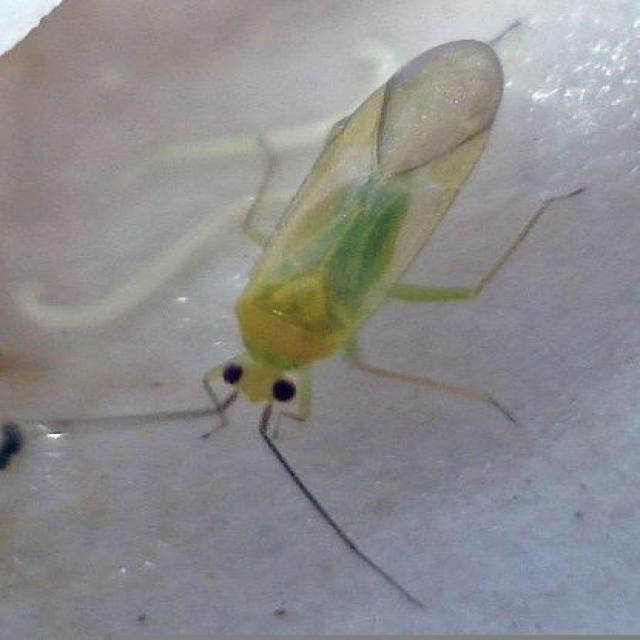Miridae-Adult-: (102, 19, 596, 490)
